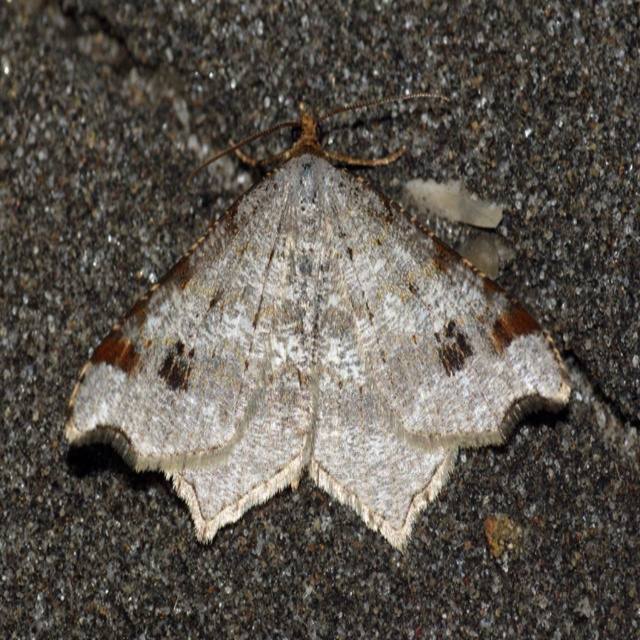Moths and butterflies: (61, 92, 578, 565)
